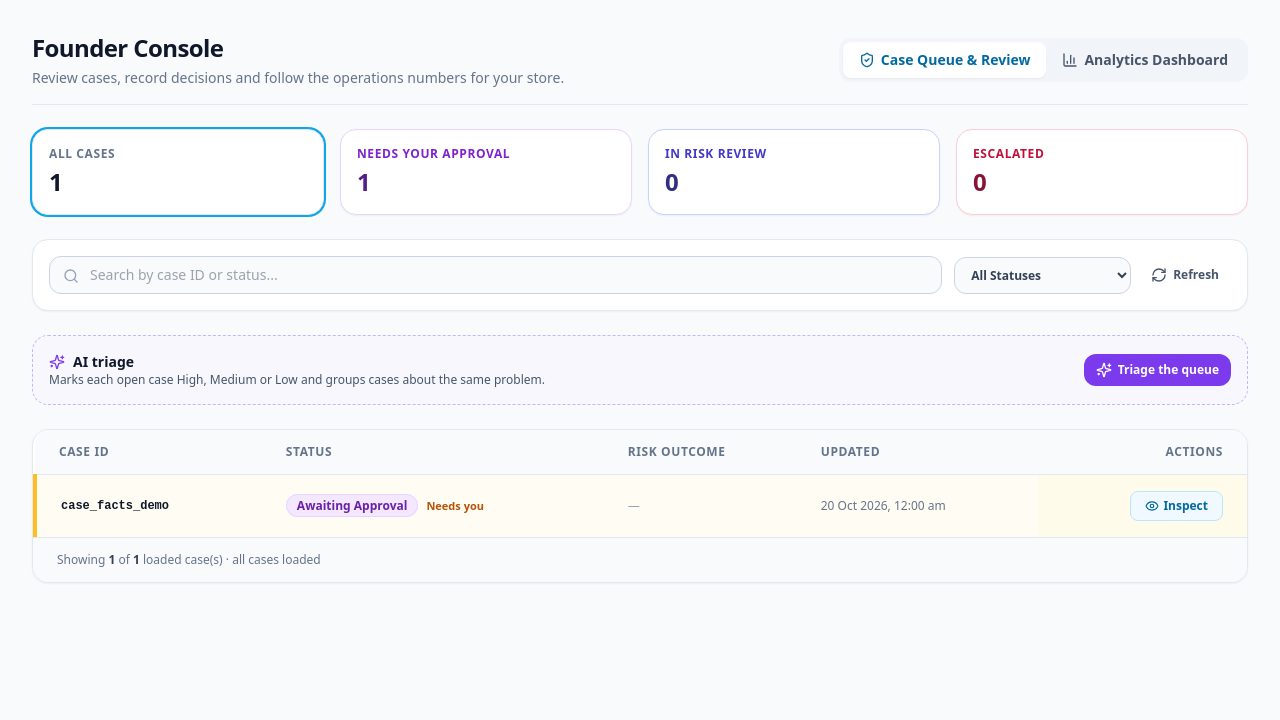
FounderConsole advisory facts card (Issue #95) › hides the card when the case view has no facts
Click the button "Inspect" at (1177, 506), box left=1130, top=491, right=1223, bottom=521
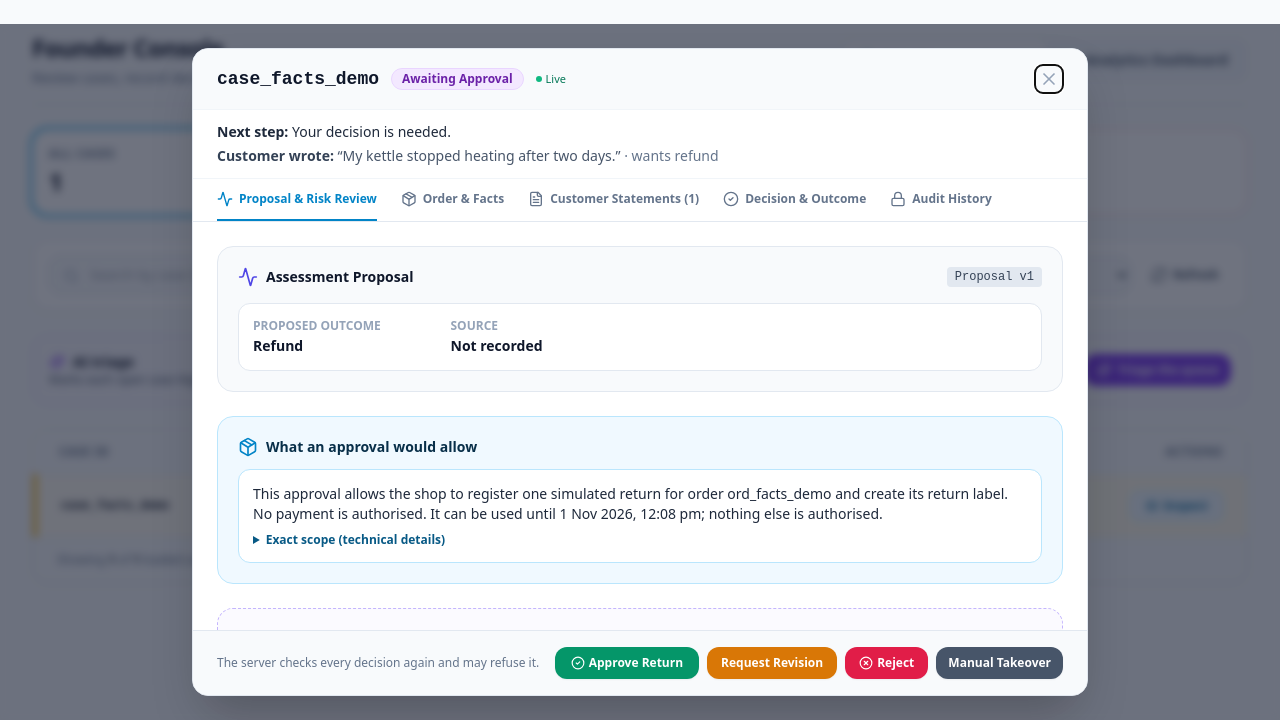
Click the tab "Order & Facts" at (452, 200), box left=401, top=179, right=504, bottom=221
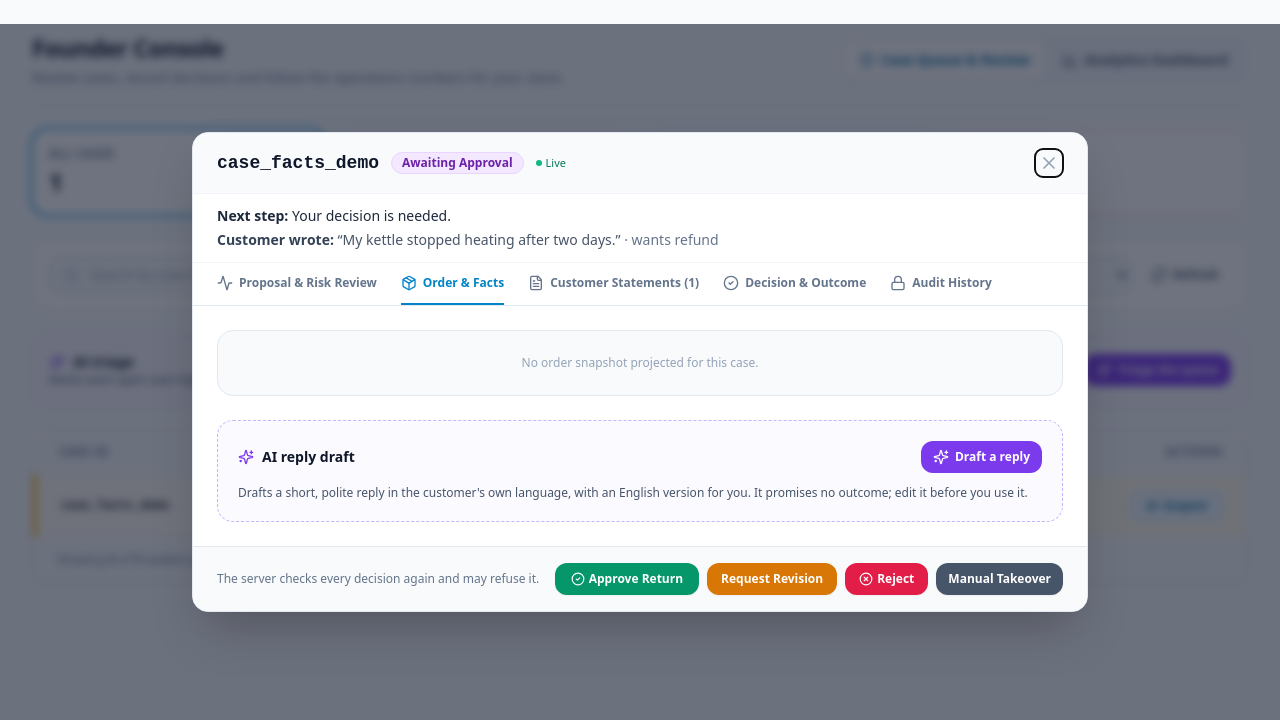
Expected: the text "No order snapshot projected for this case." is shown, left=217, top=330, right=1063, bottom=396
